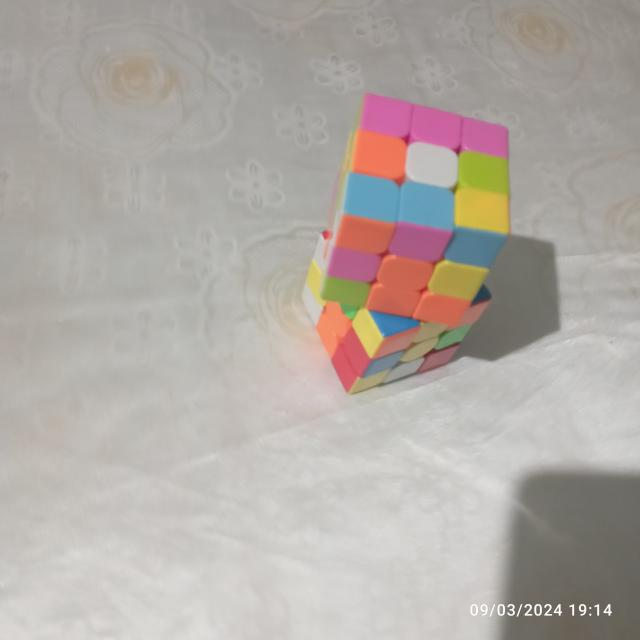Rub: (315, 93, 516, 330), (300, 214, 494, 395)
